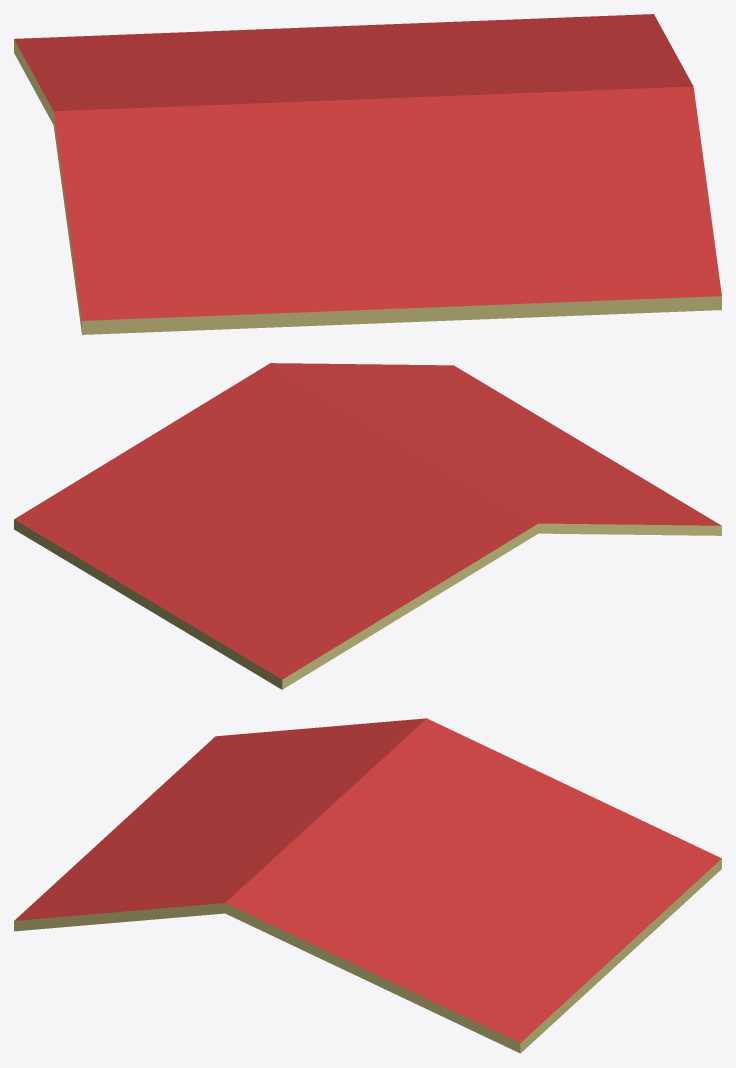
3 views of the same model, one above another, from view 1: azimuth 30°, elevation 25°; view 2: azimuth 150°, elevation 25°; view 3: azimuth 270°, elevation 25° (orthographic). The views are drawn at different scales.
Bounding box in the file's own units: 5.8 × 6.12 × 0.888.
